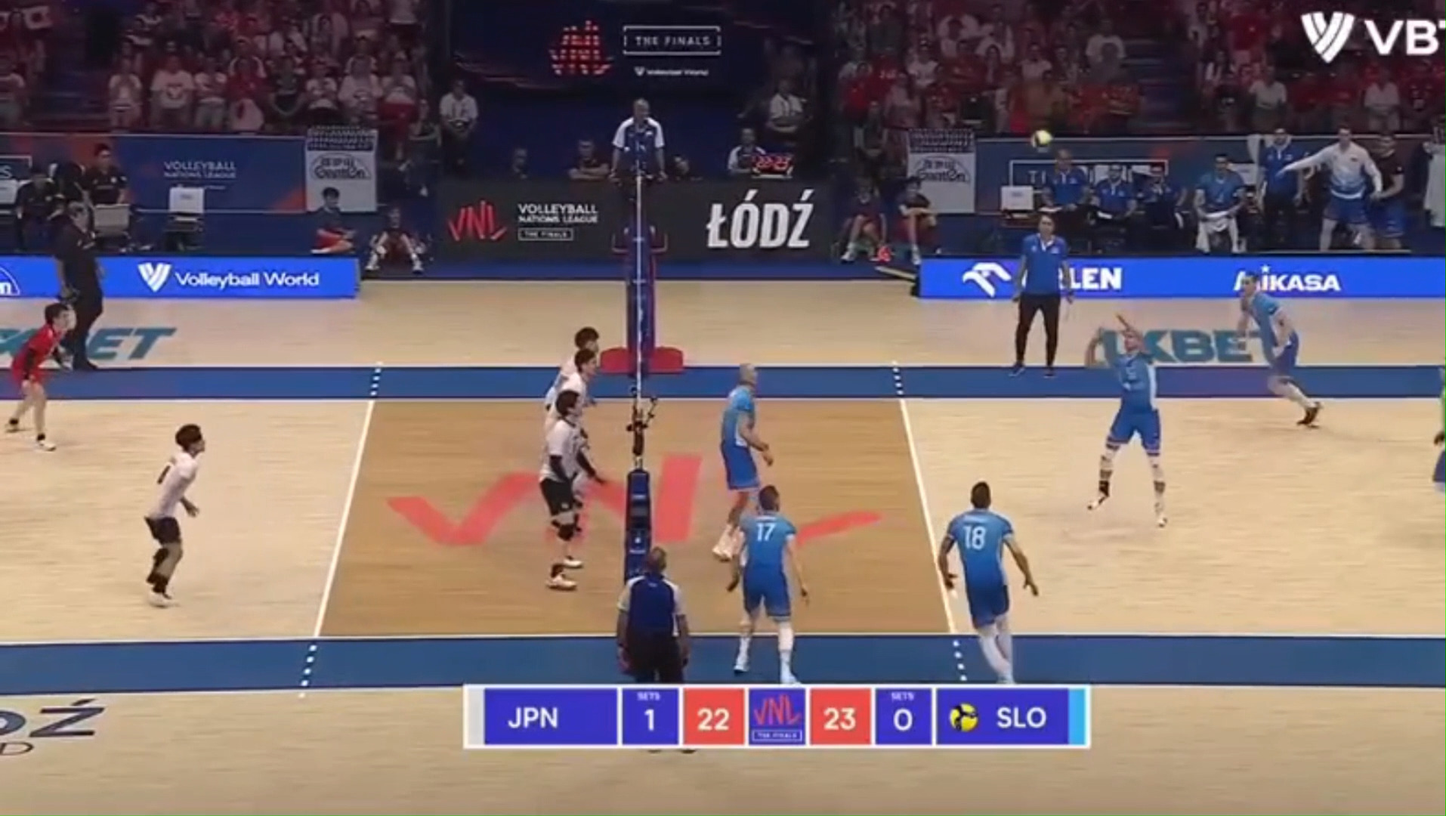ball: (1029, 129, 1053, 150)
player: (936, 481, 1037, 683), (1084, 316, 1167, 527), (729, 485, 808, 683), (1237, 273, 1321, 426), (712, 364, 773, 561)
player 1: (539, 391, 598, 589), (144, 423, 205, 606), (5, 302, 73, 450), (545, 326, 599, 408), (545, 348, 598, 429)
referee: (616, 547, 690, 684), (1011, 214, 1073, 376), (610, 99, 669, 256), (54, 201, 103, 370)
